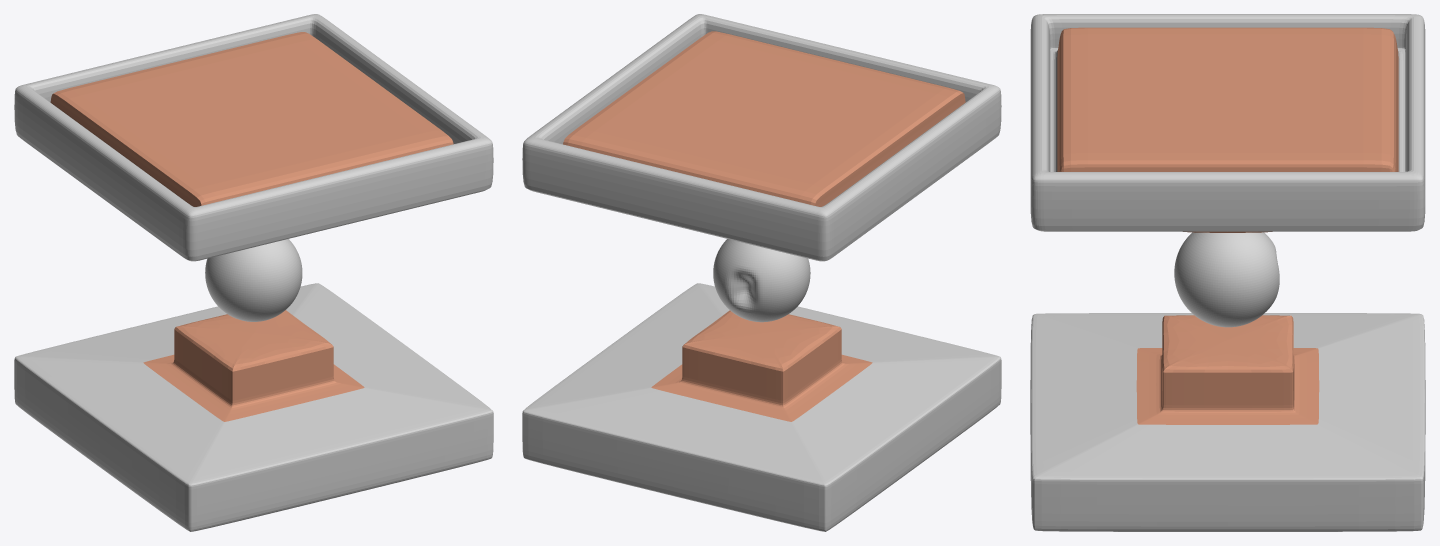
The model's file is SmallBomb_orig.fbx.
3 views of the same model, side by side, from view 1: azimuth 30°, elevation 25°; view 2: azimuth 150°, elevation 25°; view 3: azimuth 270°, elevation 25° (orthographic). The views are drawn at different scales.
Visible parts, largest first — view 1: Cube.012; view 2: Cube.012; view 3: Cube.012.
Boxes of the visible parts, x1,y1,x2,y2 form: Cube.012: (14, 14, 493, 531); Cube.012: (522, 14, 1001, 531); Cube.012: (1030, 14, 1425, 531).
Bounding box in the file's own units: 99.96 × 99.92 × 99.96.
